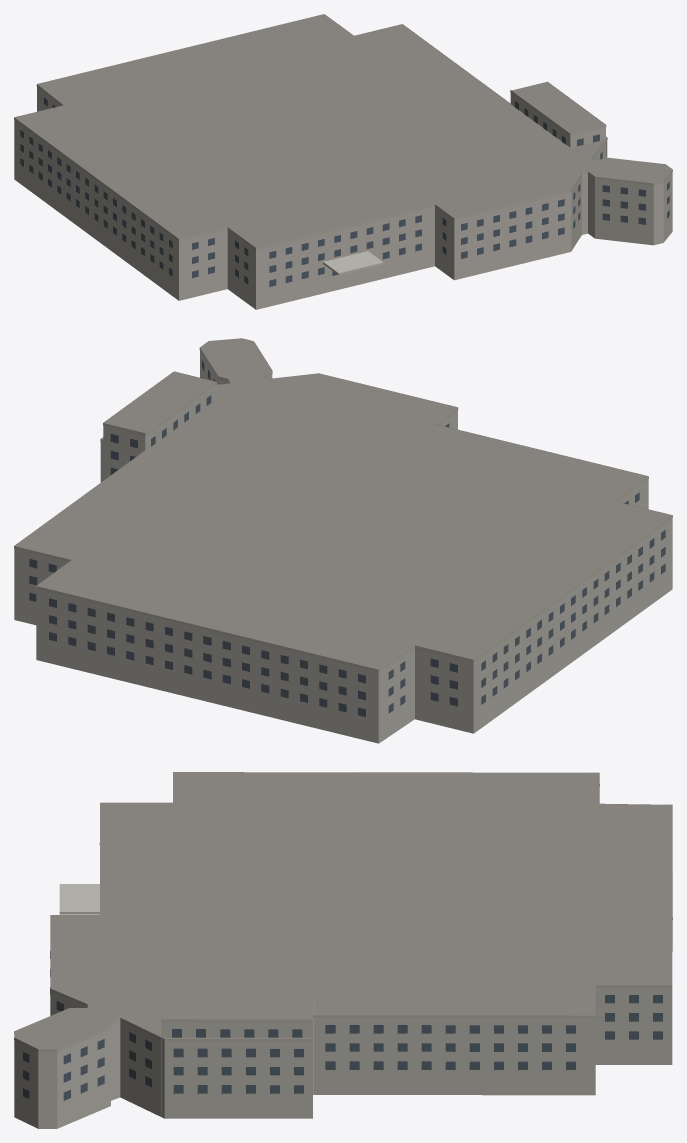
Rendered from hotel-clarion-med-ctr-midtown-bo55514.glb.
3 renders of one model, top to bottom at view 1: azimuth 30°, elevation 25°; view 2: azimuth 150°, elevation 25°; view 3: azimuth 270°, elevation 25°, orthographic. The views are drawn at different scales.
Visible parts, largest first — view 1: hotel_clarion_med_ctr_midtown_bo55514; view 2: hotel_clarion_med_ctr_midtown_bo55514; view 3: hotel_clarion_med_ctr_midtown_bo55514.
Part boxes in pixels (box(x1,y1,x2,y2)): hotel_clarion_med_ctr_midtown_bo55514: box(14, 14, 672, 309); hotel_clarion_med_ctr_midtown_bo55514: box(14, 338, 672, 743); hotel_clarion_med_ctr_midtown_bo55514: box(14, 772, 672, 1128).
Size of the model in its own units: 98.2 by 16.17 by 98.63.
